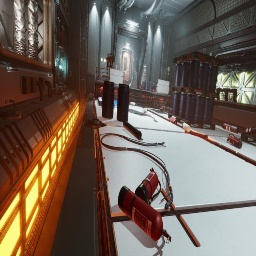0: (182, 122, 191, 132), (142, 108, 148, 113), (130, 102, 137, 106), (99, 97, 102, 98)
EmergencyPhone ,: (69, 69, 72, 76), (115, 64, 117, 69)
FireExtinguisher ]: (118, 186, 172, 244), (135, 167, 161, 206), (226, 133, 242, 149), (160, 108, 164, 112), (155, 89, 156, 92)
FirstAidBox ,: (168, 117, 177, 126), (169, 107, 172, 113), (152, 89, 155, 92), (102, 95, 103, 100)
NitrogenTank ,: (221, 122, 239, 134), (241, 126, 256, 135), (160, 106, 170, 111), (140, 87, 142, 90)
SafetySwitchPanel ,: (143, 64, 147, 76), (55, 62, 56, 67)
